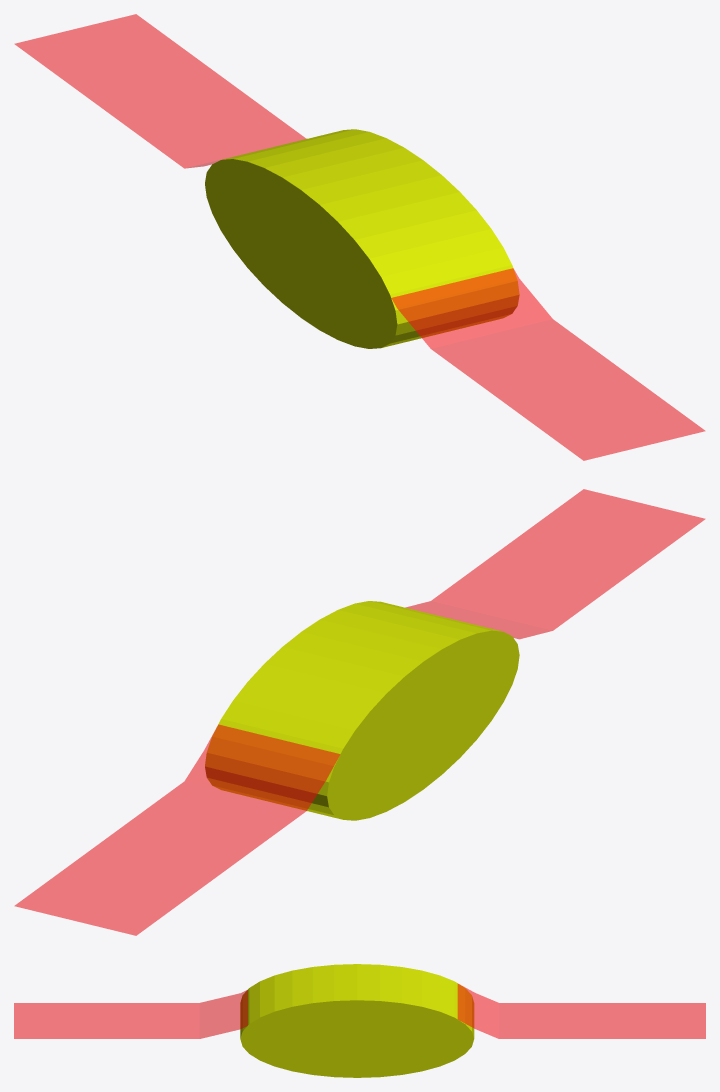
Rendered from planecollidertest01.glb.
3 renders of one model, top to bottom at view 1: azimuth 30°, elevation 25°; view 2: azimuth 150°, elevation 25°; view 3: azimuth 270°, elevation 25°, orthographic. The views are drawn at different scales.
Parts seen in each view (by area): view 1: obstacle_nohitbox, hb_fullhitbox; view 2: hb_fullhitbox, obstacle_nohitbox; view 3: obstacle_nohitbox, hb_fullhitbox.
Boxes of the visible parts, left/top/right/bottom form: obstacle_nohitbox: left=205, top=129, right=519, bottom=348; hb_fullhitbox: left=15, top=14, right=704, bottom=460; hb_fullhitbox: left=15, top=489, right=704, bottom=935; obstacle_nohitbox: left=205, top=601, right=519, bottom=820; obstacle_nohitbox: left=240, top=964, right=474, bottom=1077; hb_fullhitbox: left=14, top=984, right=705, bottom=1038.
Bounding box in the file's own units: 2 × 2 × 16.14.
